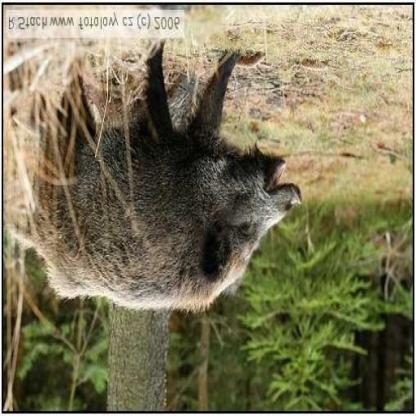boar: (40, 50, 369, 363)
